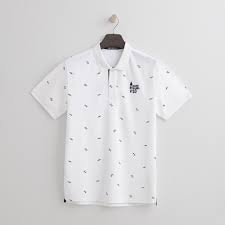S_polo shirt: (38, 49, 187, 211)
